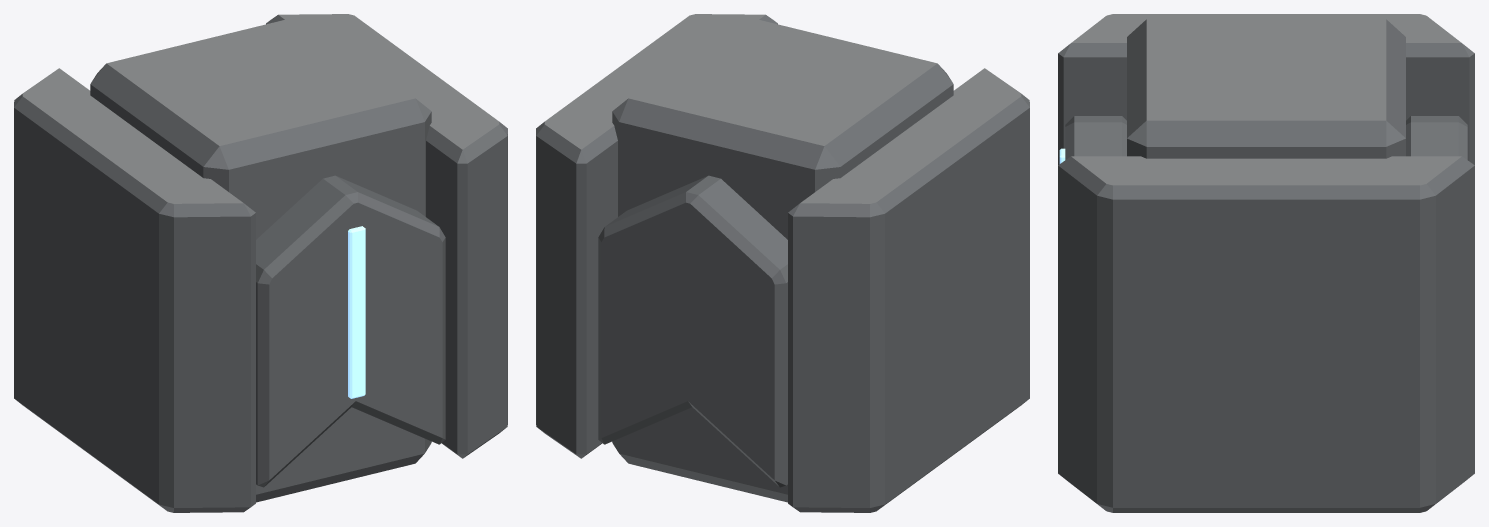
Rendered from R4X_HullBooster_LOD1.glb.
3 renders of one model, left to right at view 1: azimuth 30°, elevation 25°; view 2: azimuth 150°, elevation 25°; view 3: azimuth 270°, elevation 25°, orthographic. The views are drawn at different scales.
Parts seen in each view (by area): view 1: R4X_HullBooster_LOD1; view 2: R4X_HullBooster_LOD1; view 3: R4X_HullBooster_LOD1.
Part boxes in pixels (left/top/right/bottom): R4X_HullBooster_LOD1: left=14, top=14, right=507, bottom=512; R4X_HullBooster_LOD1: left=536, top=14, right=1029, bottom=512; R4X_HullBooster_LOD1: left=1058, top=14, right=1474, bottom=512.
Size of the model in its own units: 0.52 by 0.52 by 0.5076.
